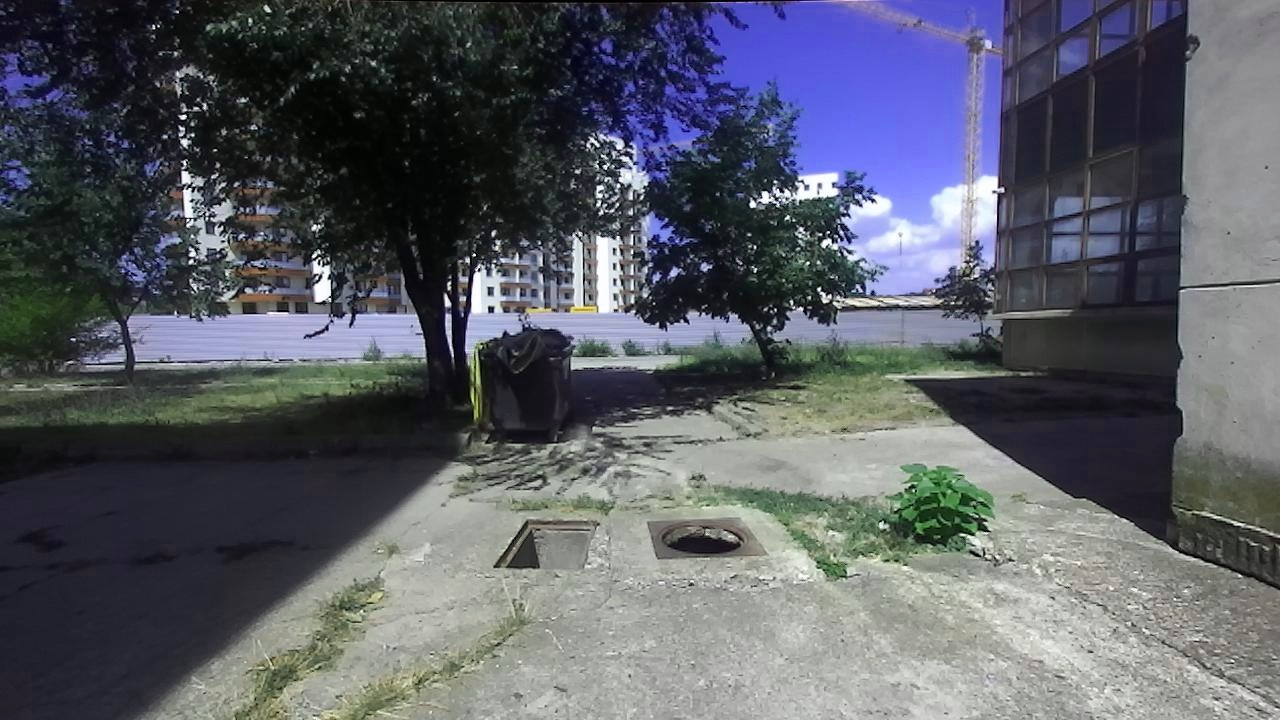drain: (491, 516, 601, 572), (658, 520, 747, 560)
